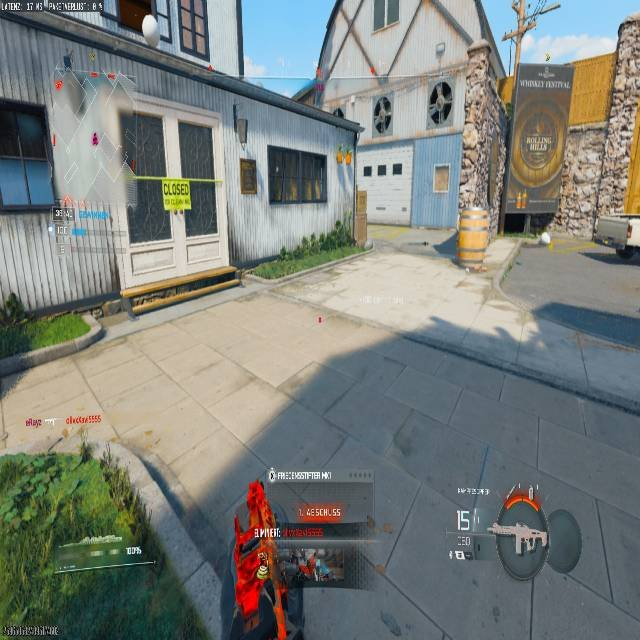player: (373, 96, 391, 133)
